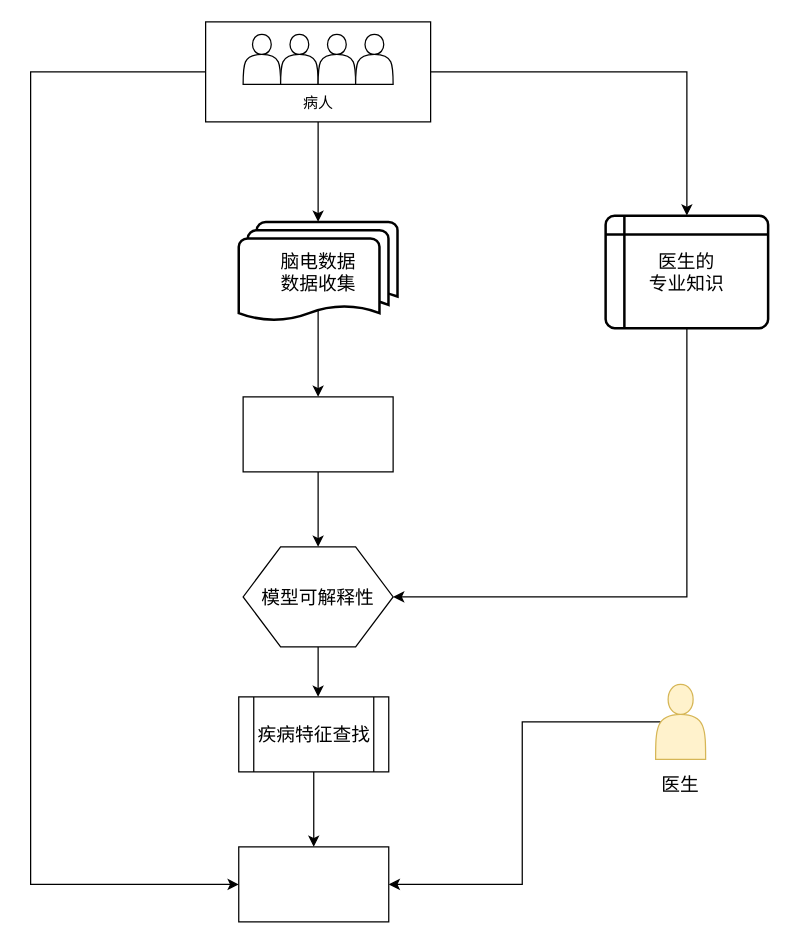
The diagram is 791 pixels wide and 944 high, and some of its shapes have lost their labels. Here are the shapes that lost their labels. From the top down, the centre of each, then its label:
(317,434): 构建模型框架
(313,884): 辅助诊疗平台搭建
